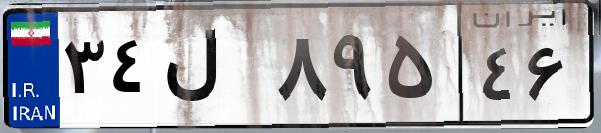3: (57, 26, 110, 100)
4: (475, 38, 525, 113), (110, 28, 158, 98)
5: (385, 28, 445, 110)
6: (525, 38, 570, 115)
8: (270, 28, 330, 110)
9: (330, 28, 385, 110)
ل: (158, 20, 270, 120)
